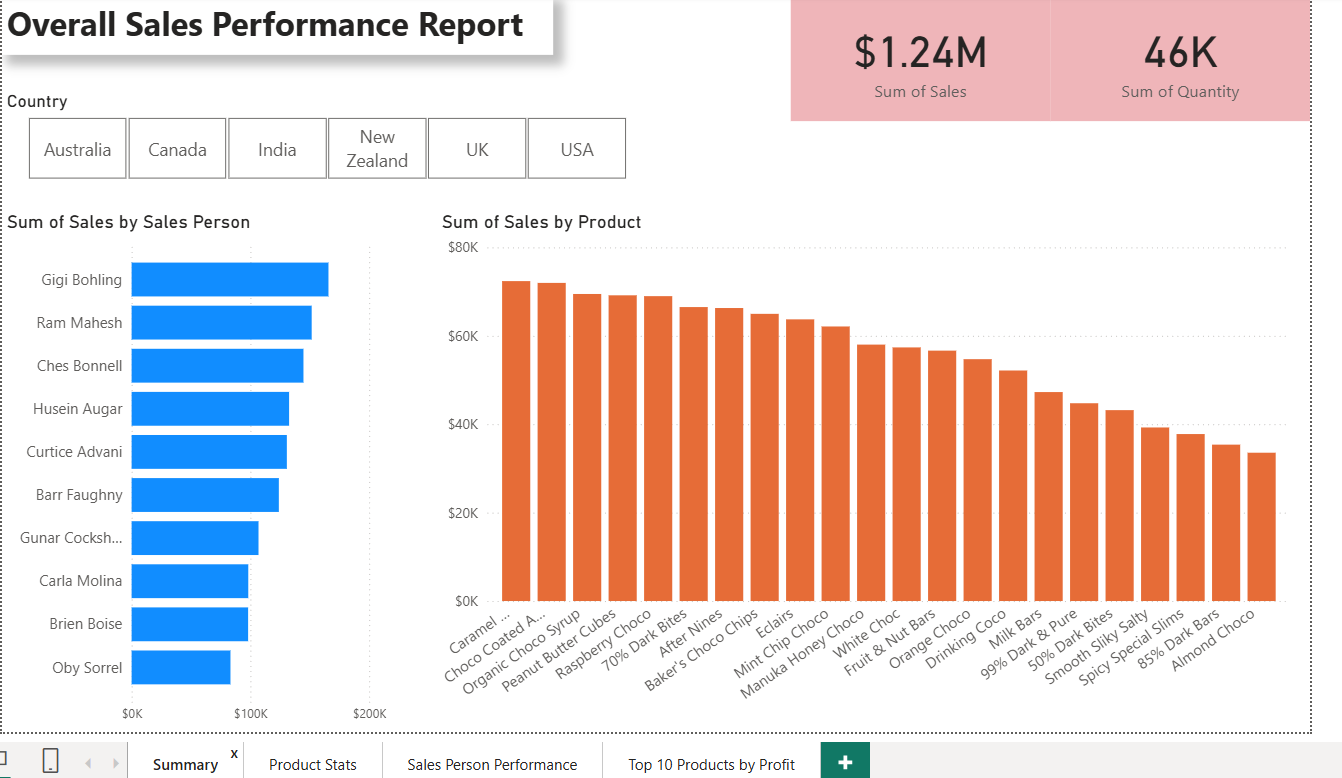

This screenshot's page, from the dashboard's own definition file:
{"tool":"powerbi","page":{"name":"Summary","canvas":[1280,720],"ordinal":0},"visuals":[{"type":"slicer","title":"Country","fields":{"Values":["Dataset.Country"]},"box":[0,92.9,634.4,92.9],"z":0},{"type":"card","fields":{"Values":["Sum(Dataset.Amount ($))"]},"box":[771.3,0,254.3,122.2],"z":1000},{"type":"card","fields":{"Values":["Sum(Dataset.Quantity)"]},"box":[1025.6,0,254.3,122.2],"z":2000},{"type":"barChart","fields":{"Category":["Dataset.Sales Person"],"Y":["Sum(Dataset.Amount ($))"]},"box":[0,210.3,381.4,509.7],"z":3000},{"type":"clusteredColumnChart","fields":{"Category":["Dataset.Product"],"Y":["Sum(Dataset.Sales ($))"]},"box":[425.4,210.3,839.8,509.7],"z":4000},{"type":"textbox","box":[0,0,539.1,57.5],"z":5000}]}

Visuals, with their boxes on the page's 1280x720 design canvas (x1, y1, x2, y2). These are canvas units, not pixel positions in the 1342x778 screenshot, which may show the page scaled, cropped or inside an application window:
"Country" slicer: 0/93/634/186
card - Sum(Dataset.Amount ($)): 771/0/1026/122
card - Sum(Dataset.Quantity): 1026/0/1280/122
barChart - Dataset.Sales Person x Sum(Dataset.Amount ($)): 0/210/381/720
clusteredColumnChart - Dataset.Product x Sum(Dataset.Sales ($)): 425/210/1265/720
textbox: 0/0/539/58
